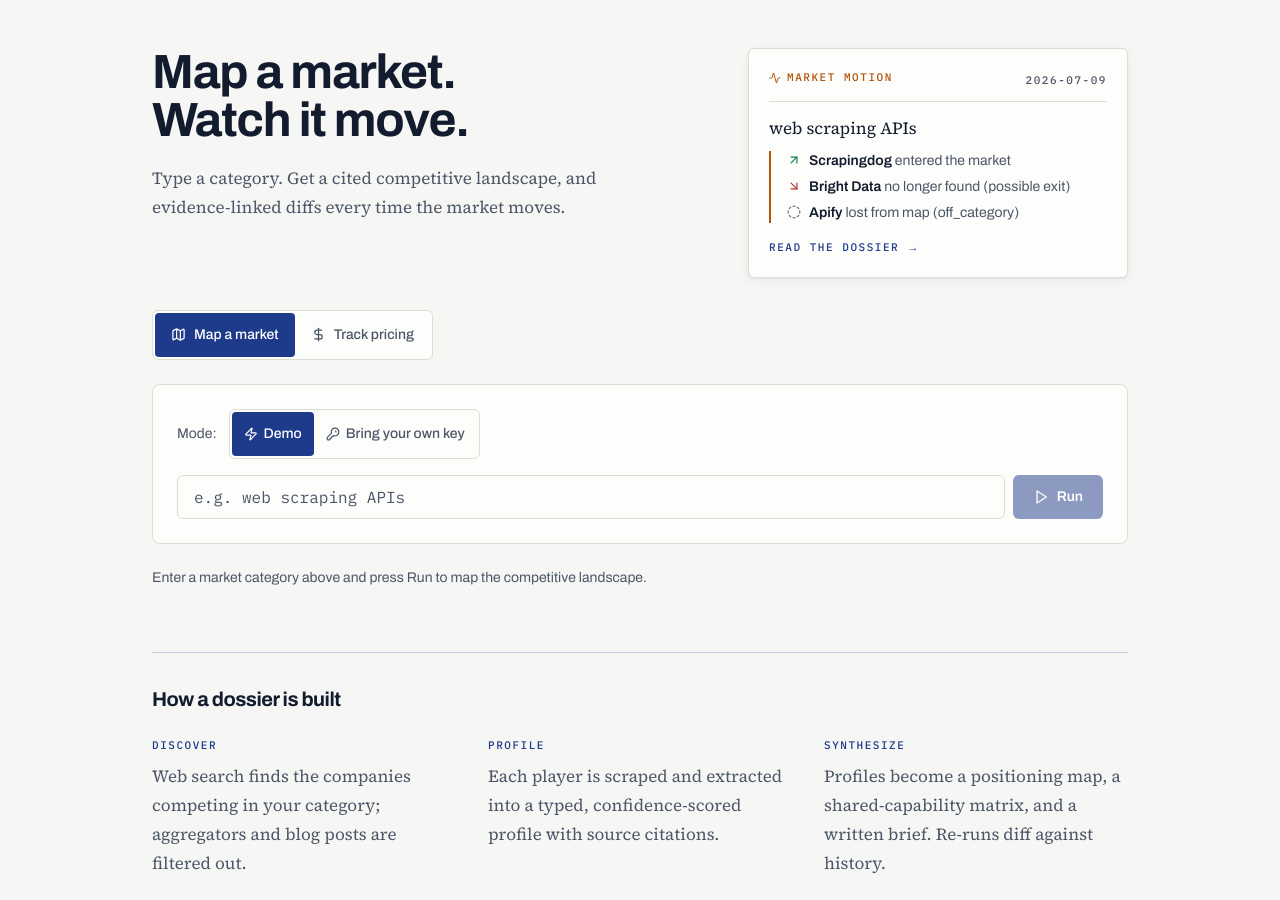
Test: Page — Map a market mode › switches to pricing mode when Track pricing button is clicked
Click the button "Track pricing" at (362, 335), box [295,313,430,357]
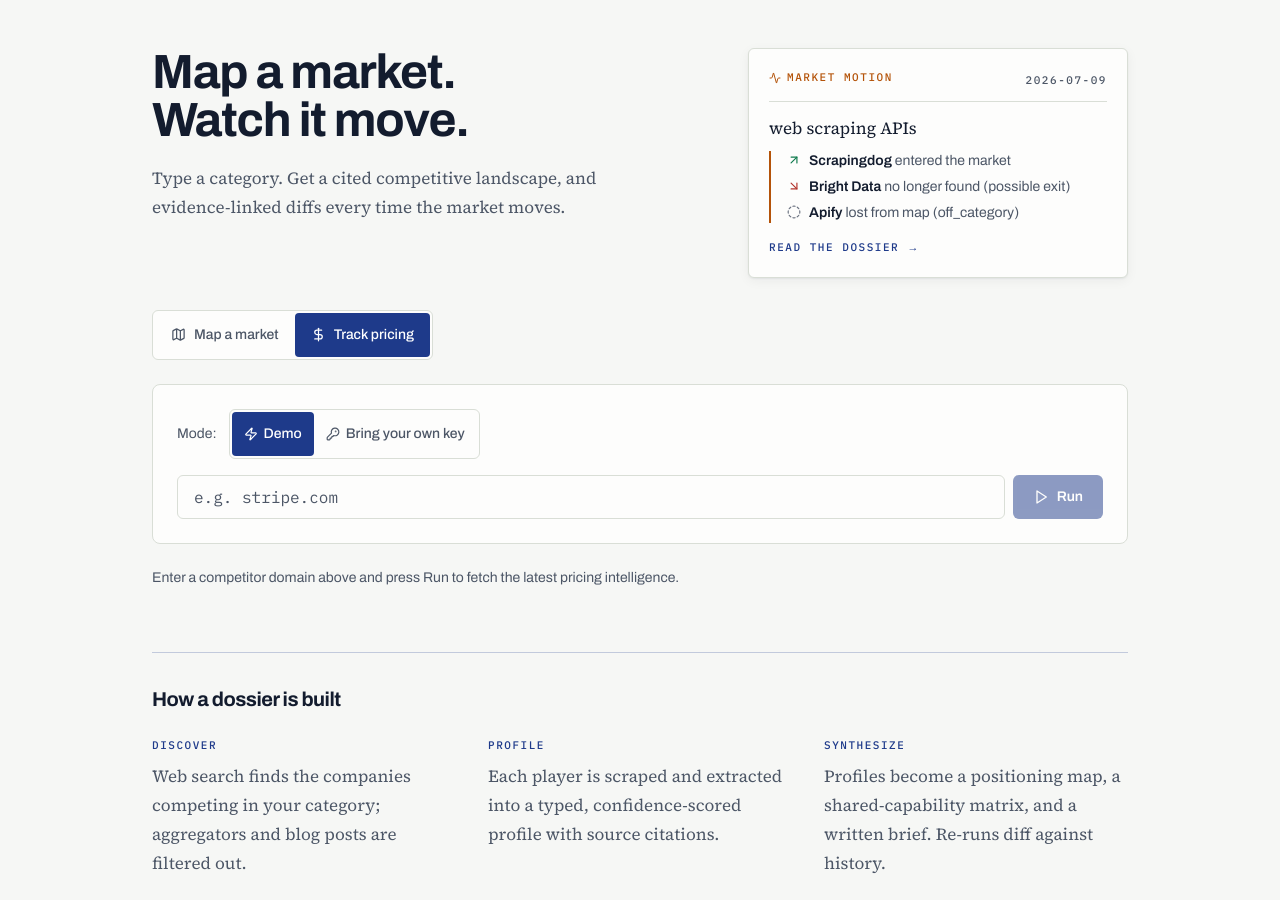
Check: the field with placeholder "e.g. stripe.com" is shown, box [177,475,1005,519]
